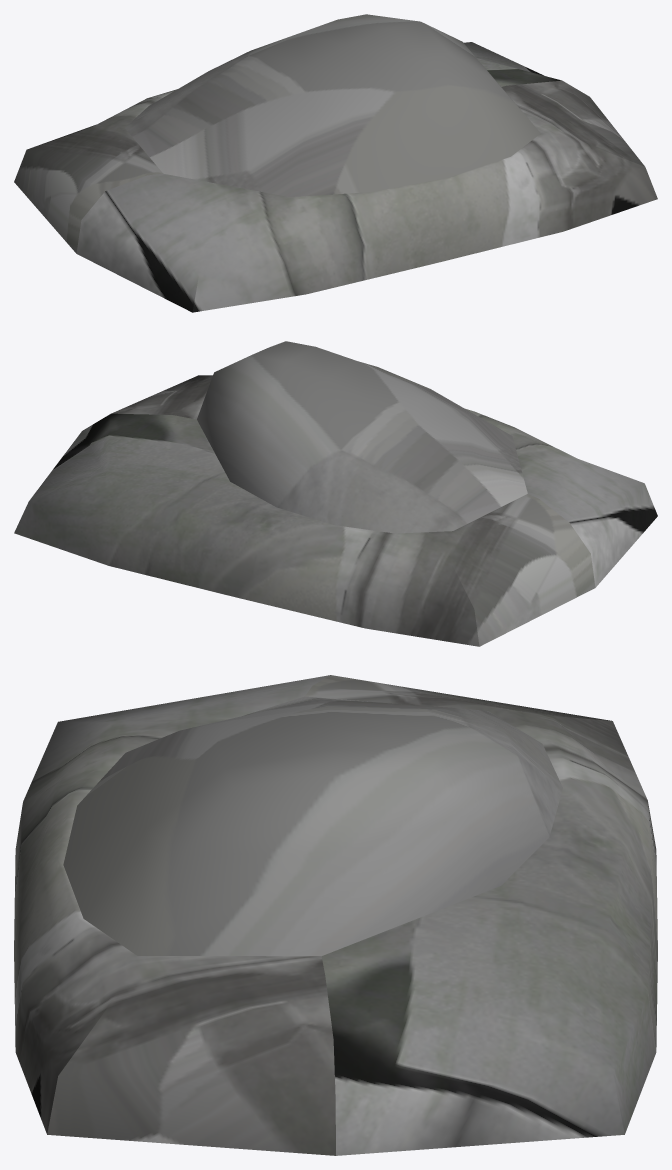
Rendered from 18_R_Pequeña.fbx.
3 views of the same model, one above another, from view 1: azimuth 30°, elevation 25°; view 2: azimuth 150°, elevation 25°; view 3: azimuth 270°, elevation 25° (orthographic). The views are drawn at different scales.
Parts seen in each view (by area): view 1: 18_R_Pequeña_Low; view 2: 18_R_Pequeña_Low; view 3: 18_R_Pequeña_Low.
Part boxes in pixels (x1=…): 18_R_Pequeña_Low: x1=14, y1=14, x2=657, y2=312; 18_R_Pequeña_Low: x1=14, y1=341, x2=657, y2=646; 18_R_Pequeña_Low: x1=14, y1=675, x2=657, y2=1155.
Size of the model in its own units: 565 by 156 by 376.
